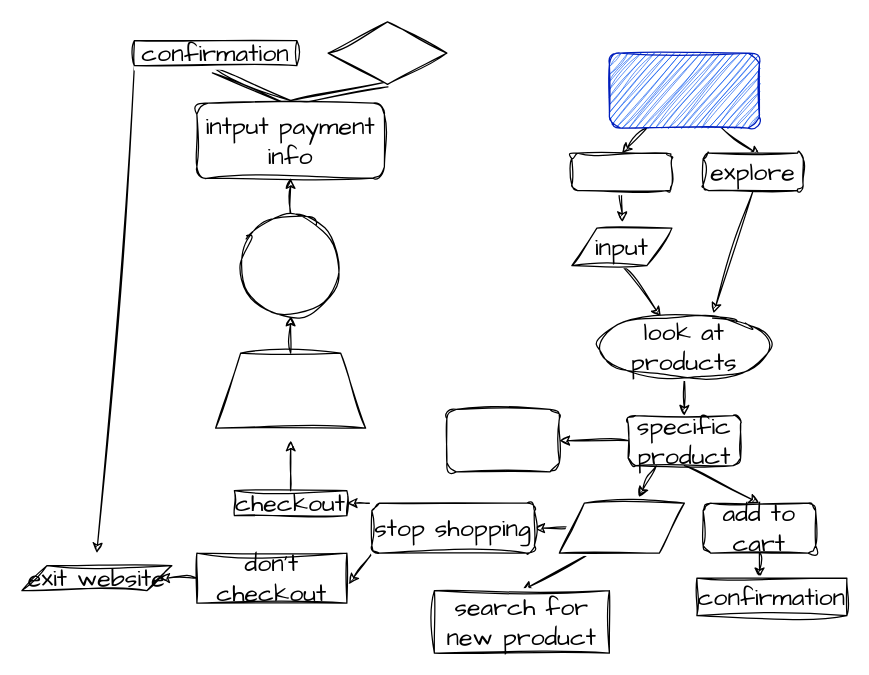
Image size: 869x675. Some labels were removed from this diagram. The shapes that lost their labels are listed below. From the top down, each one's centre as x and y in pixels, then its label:
At point 387,52: "recieve email".
At point 683,90: "User enters website".
At point 621,171: "search".
At point 290,265: "view payment".
At point 290,390: "VIew cart".
At point 502,440: "specific webpage".
At point 621,527: "continue shopping".
